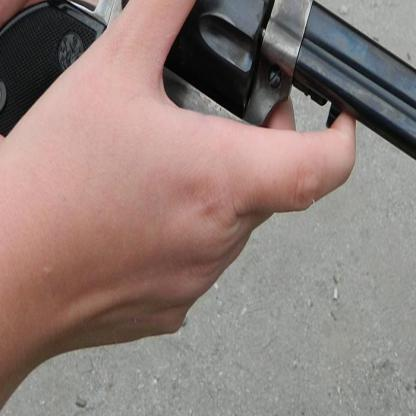gun: (0, 0, 415, 239)
